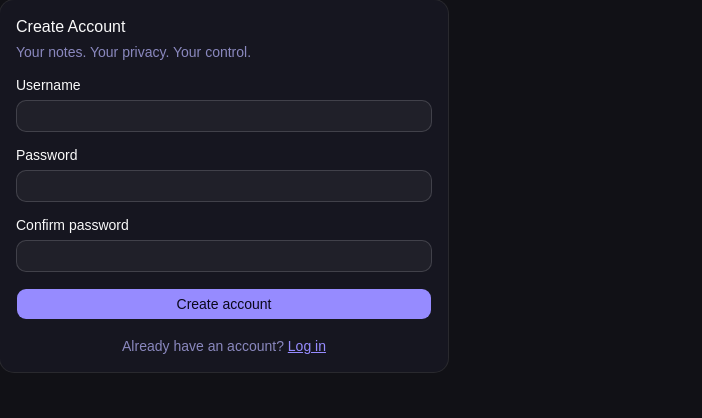
Scenario: RegisterPage › shows validation error for invalid username pattern
Step 1. Type "Bad Username!" into the field labelled "Username" → (224, 116), box [16,100,432,132]
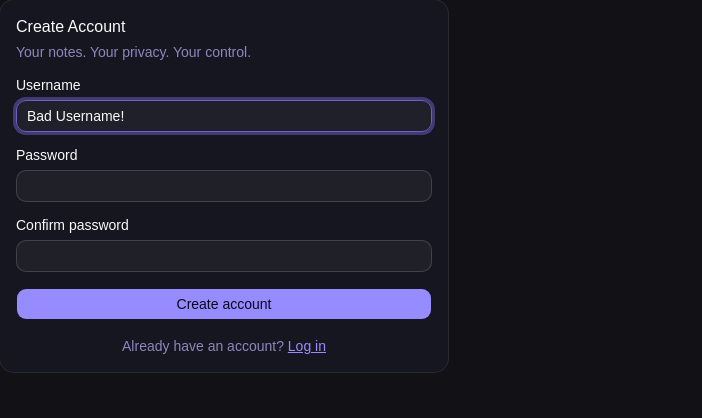
Step 2. Type "testpass123" into the password field labelled "Password" → (224, 186), box [16,170,432,202]
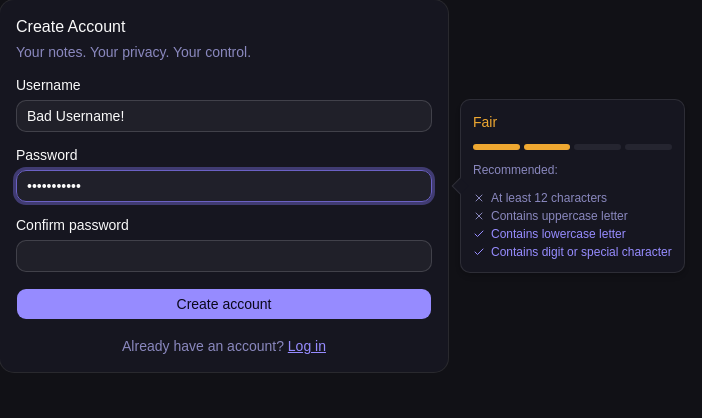
Step 3. Type "testpass123" into the password field labelled "Confirm password" → (224, 256), box [16,240,432,272]
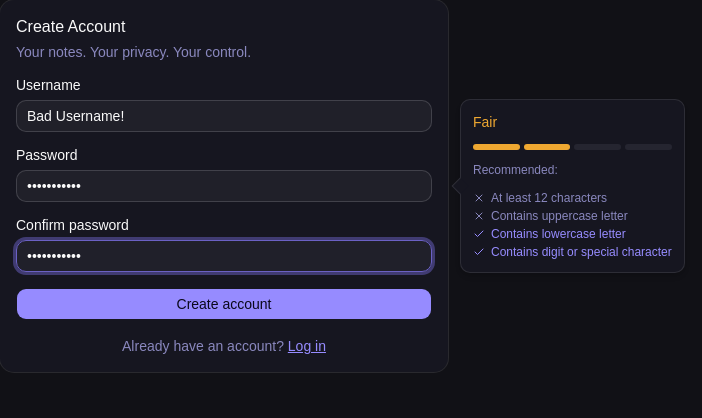
Step 4. Click the button "Create account" → (224, 304), box [16,288,432,320]
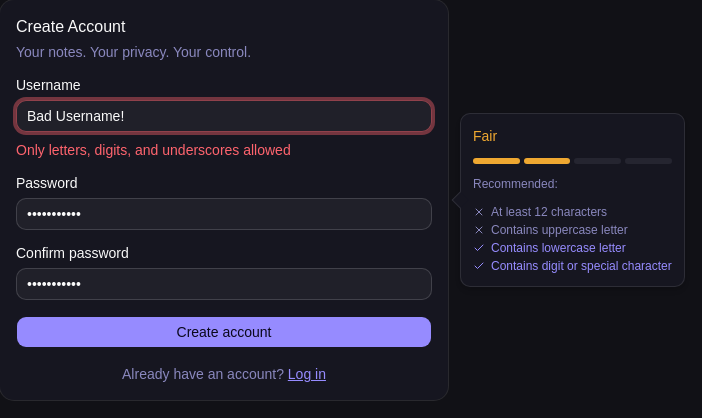
Expected: the text "Only letters, digits, and underscores allowed" is shown, [16,142,291,158]
